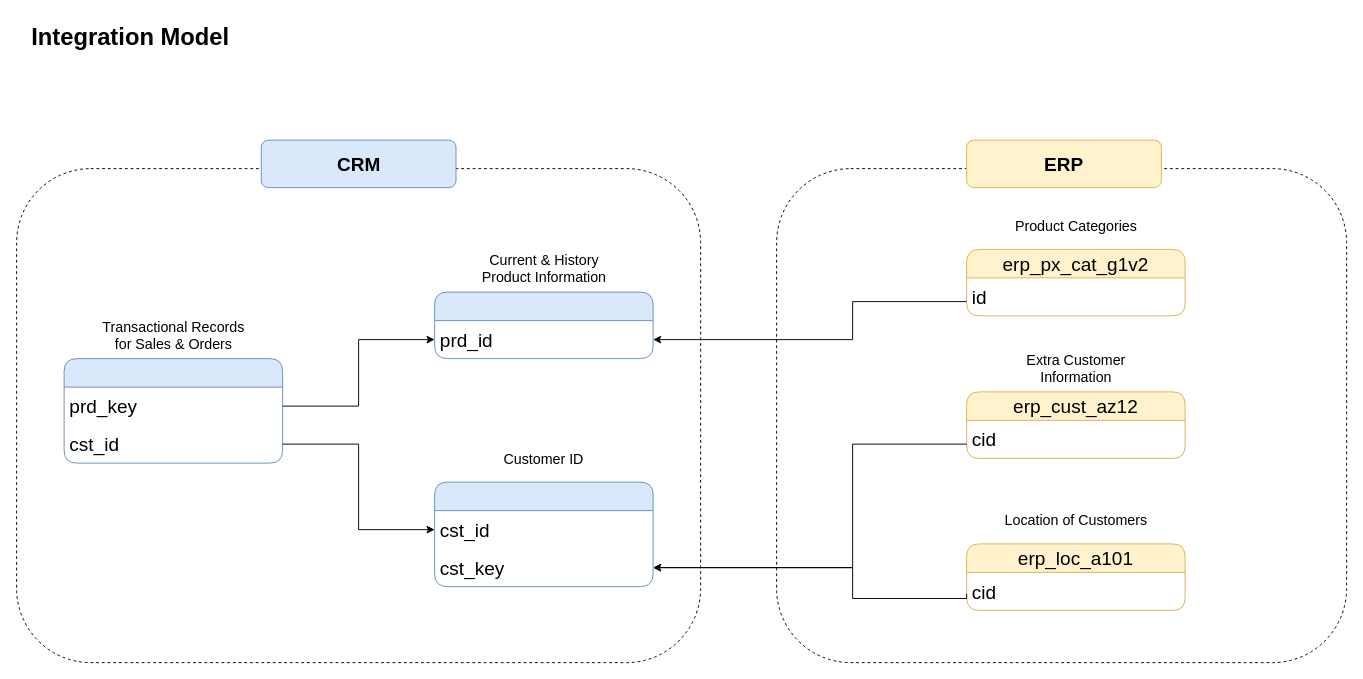
Image size: 1363x679. Some labels were removed from this diagram. Each missing label, with the box of its shape:
crm_cust_info: (434, 481, 653, 587)
crm_prd_info: (434, 291, 653, 359)
crm_sales_details: (63, 358, 283, 463)
